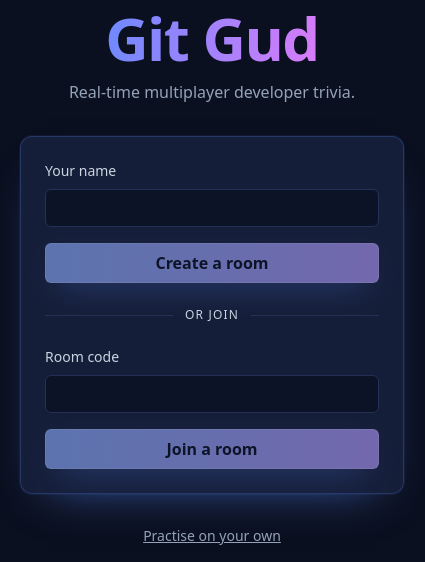
lobby screen › requires a full room code before joining
The image size is (425, 562).
Step 1. Type "Alex" into the field labelled "Your name" → (212,208), box [45, 189, 379, 227]
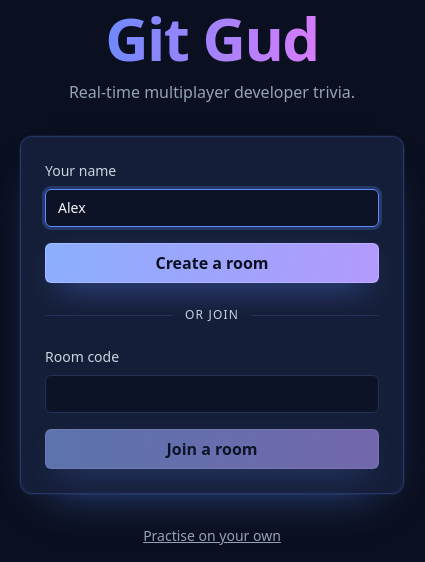
Expected: the button "Join a room" is disabled, [45, 429, 379, 469]
Step 2. Type "ABC" into the field labelled "Room code" → (212,394), box [45, 375, 379, 413]
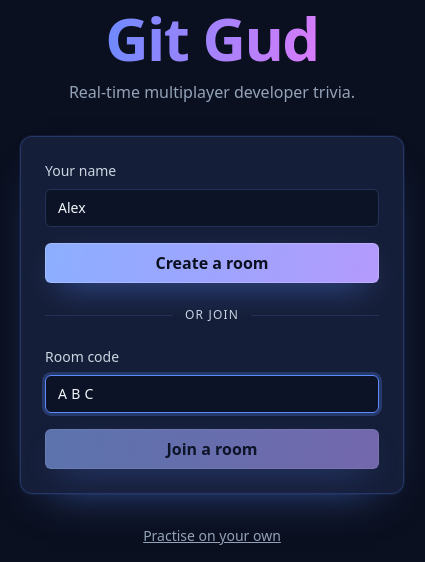
Expected: the button "Join a room" is disabled, [45, 429, 379, 469]
Step 3. Type "123" into the field labelled "Room code" → (212,394), box [45, 375, 379, 413]
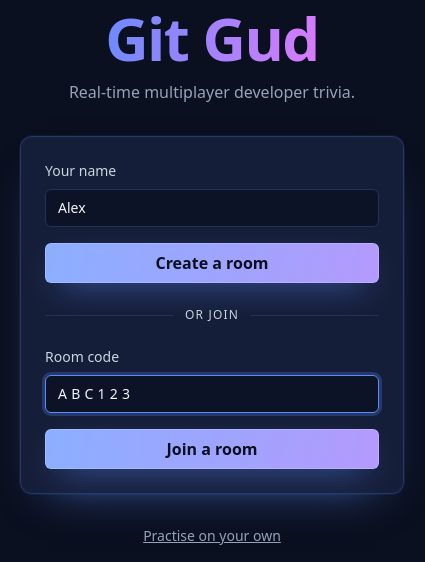
Expected: the button "Join a room" is enabled, [45, 429, 379, 469]
